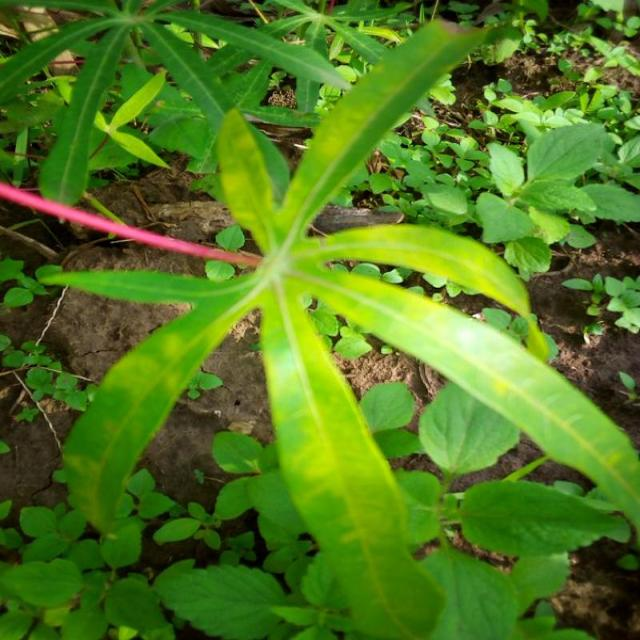cassava leaf: (37, 13, 638, 638)
